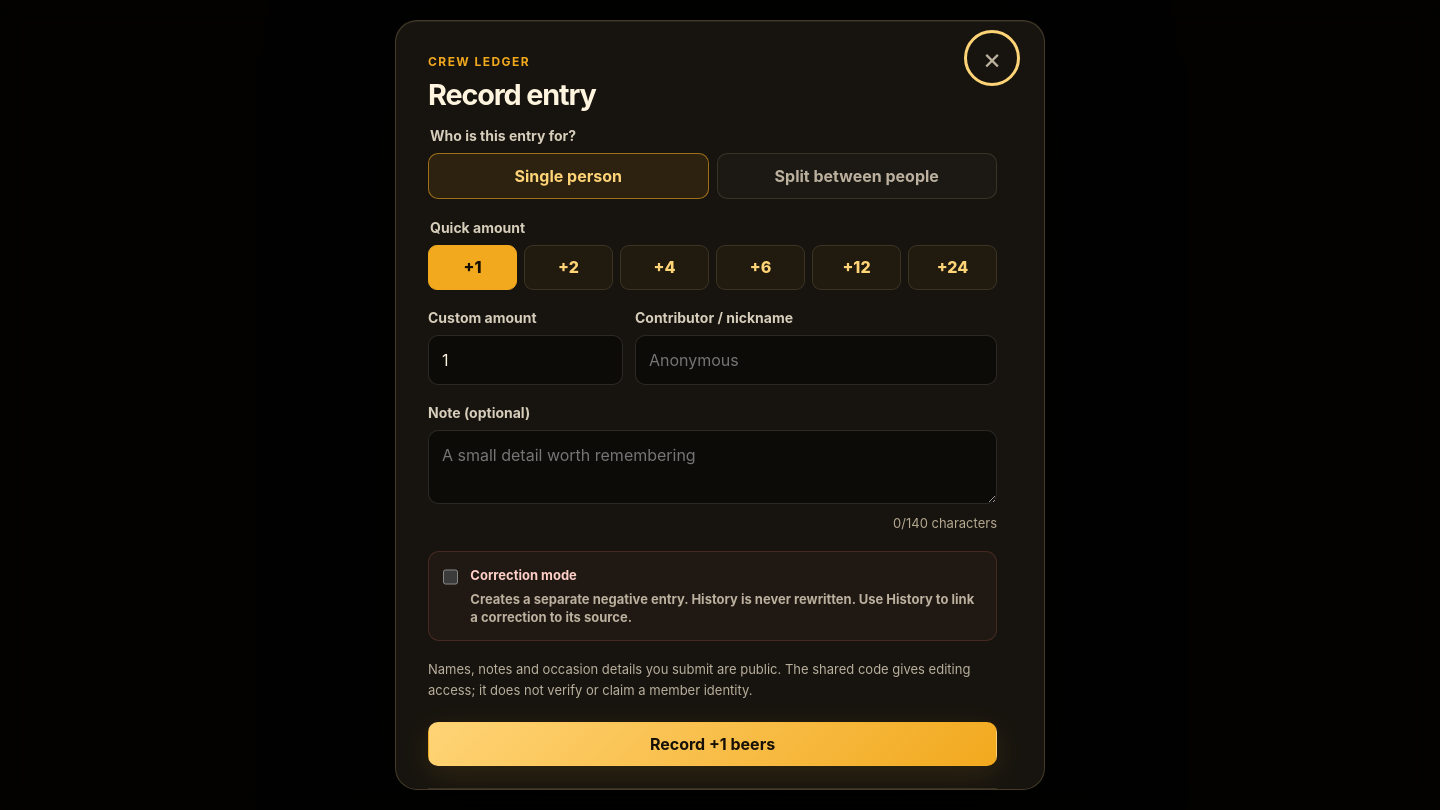
UpdateModal group mode › announces remaining allocation and disables review until the split is exact
Click the button "Split between people": (857, 176) [716,152,997,198]
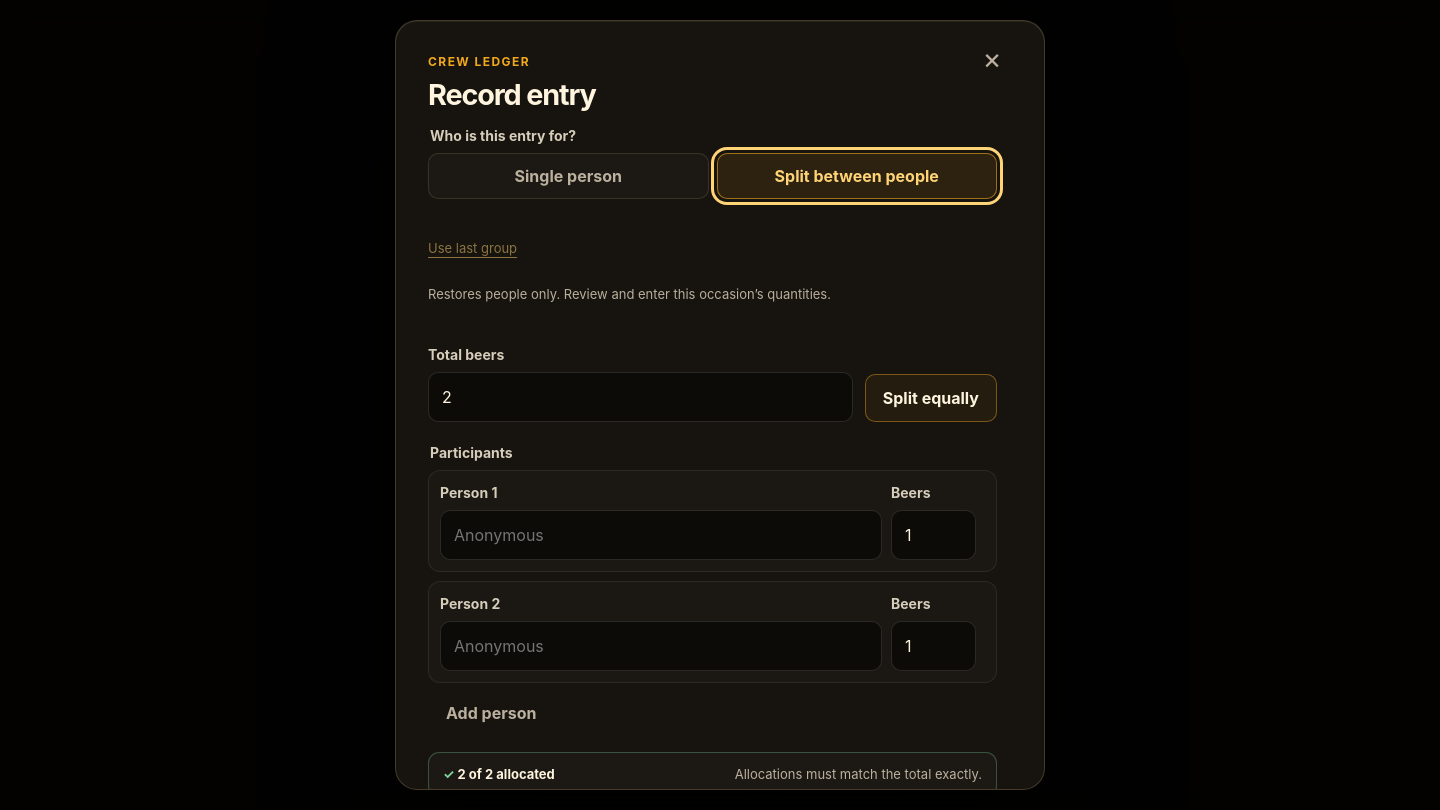
Replace the text in the number field labelled "Total beers" with "5": (640, 397) [428,372,853,422]
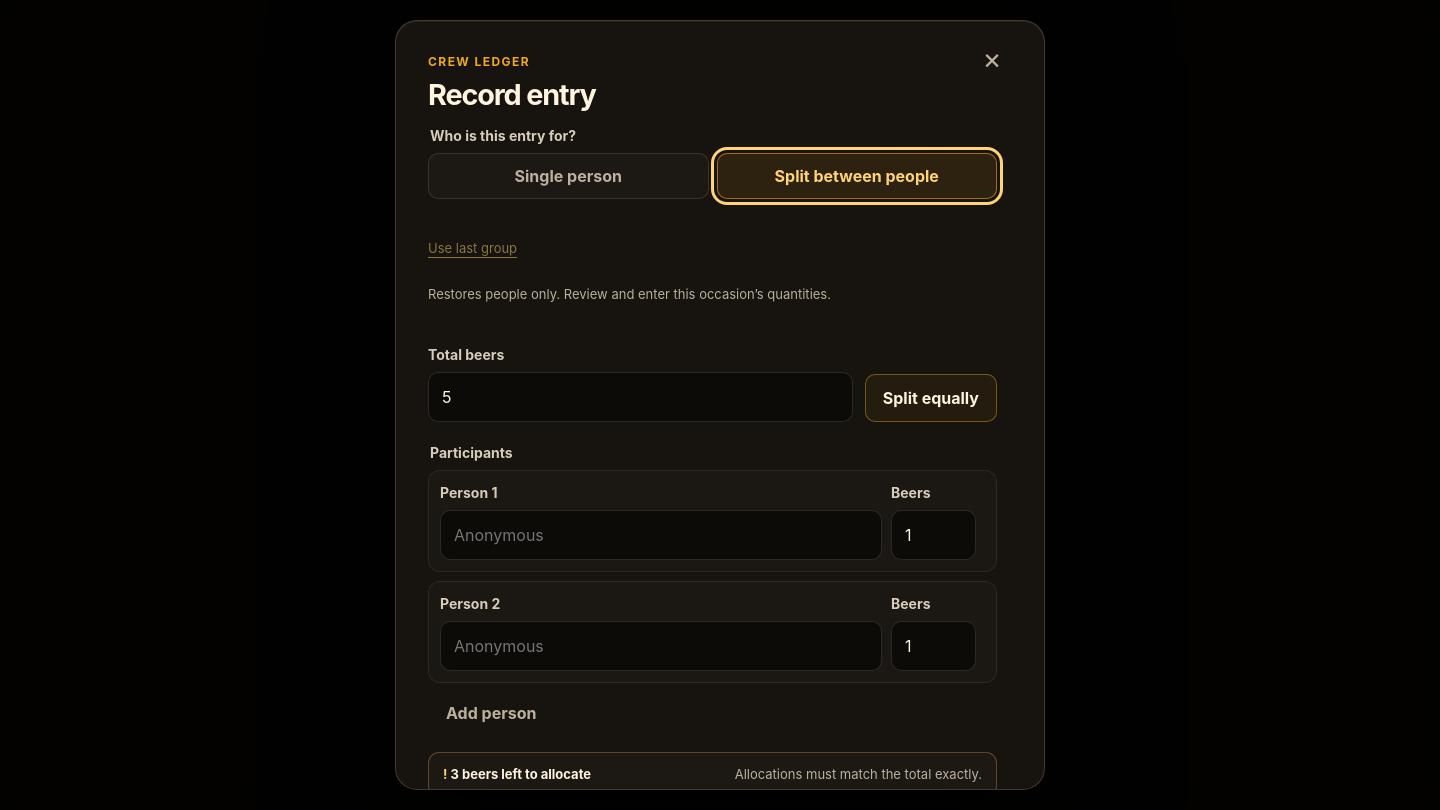
Expected: the text "3 beers left to allocate" is shown, [443,765,591,784]
In the field labelled "Person 1": (661, 535) [440,510,882,560], type "Arhaan"
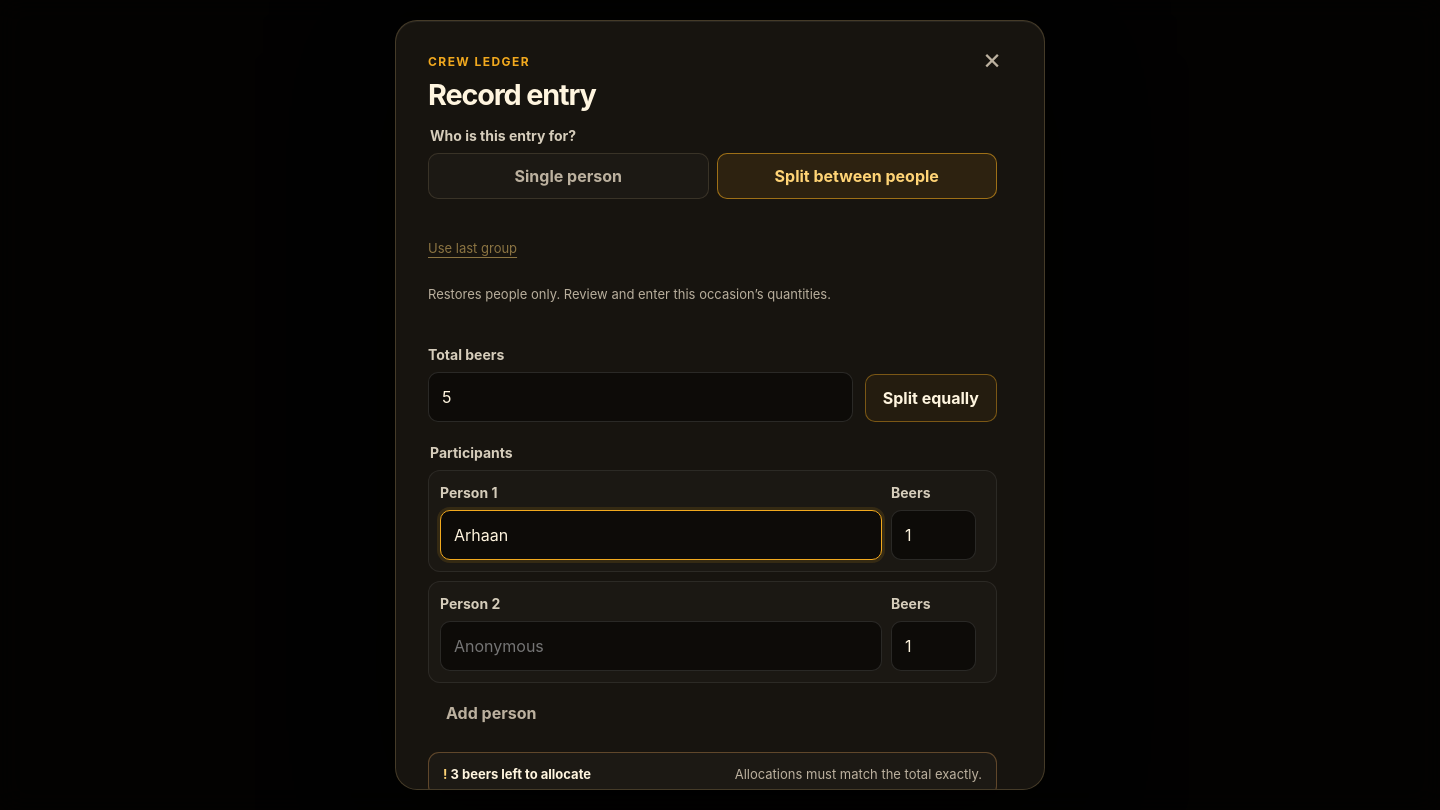
In the field labelled "Person 2": (661, 646) [440,621,882,671], type "Sam"
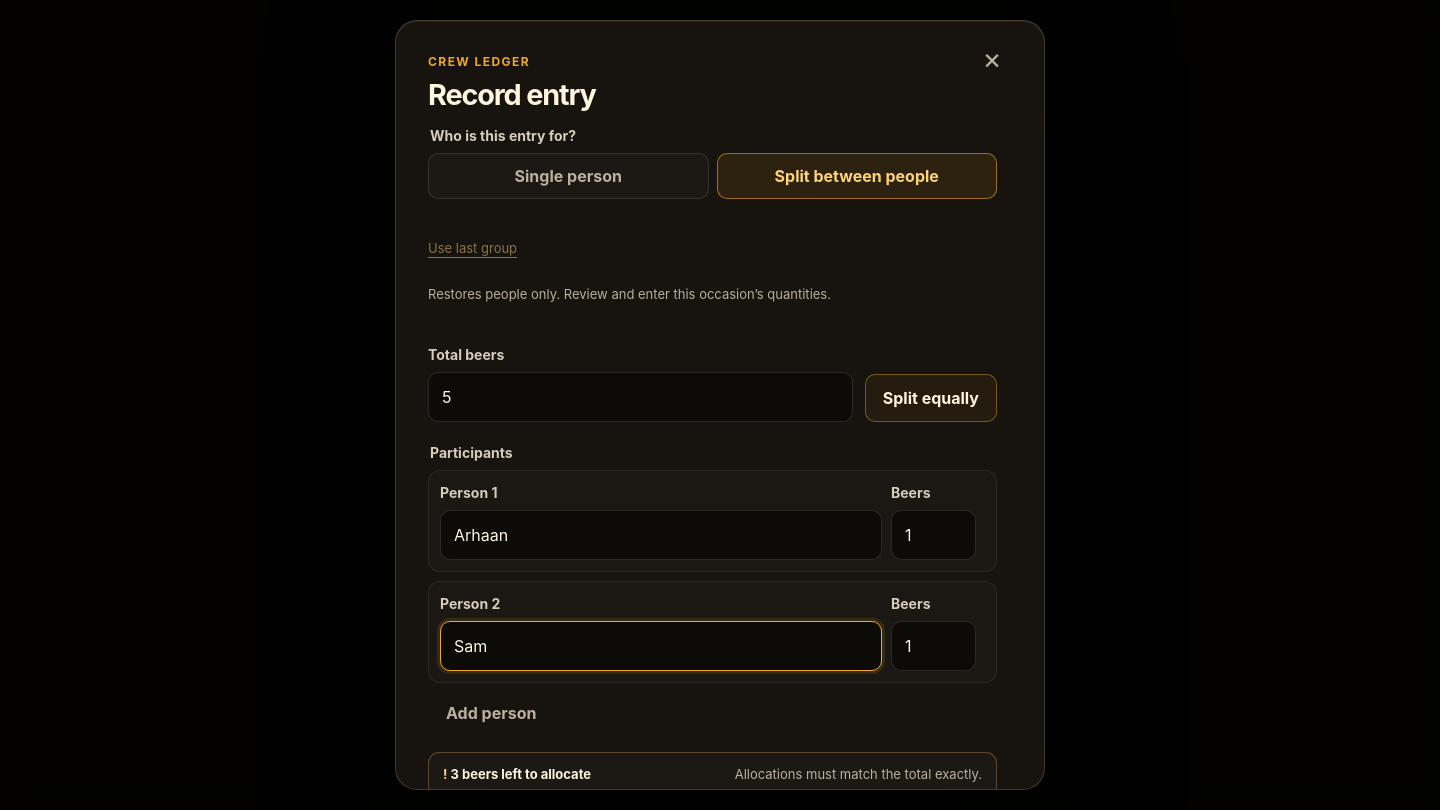
Replace the text in the number field named "Beer allocation for participant 1" with "3": (934, 535) [891,510,976,560]
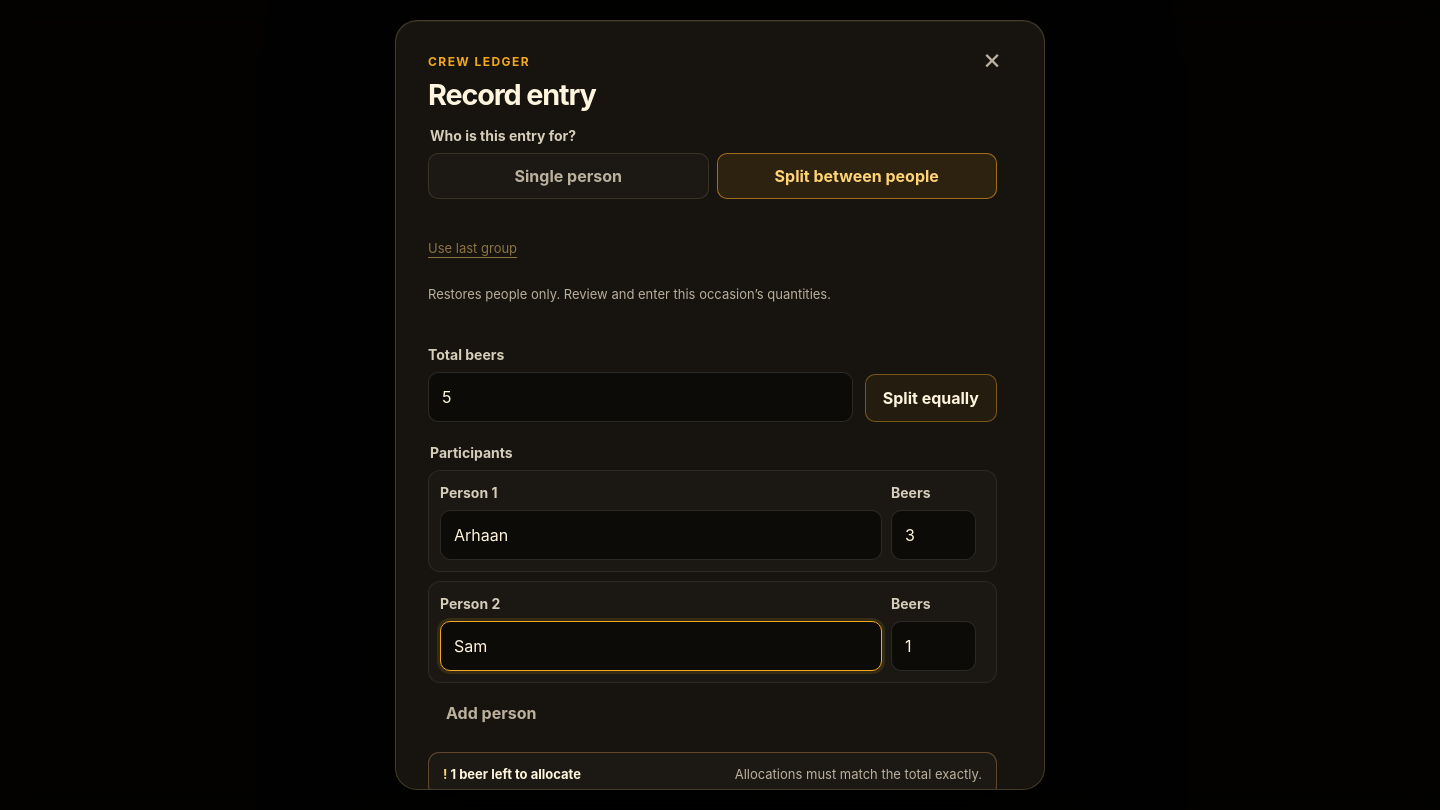
Expected: the text "1 beer left to allocate" is shown, [443,765,581,784]
Replace the text in the number field named "Beer allocation for participant 2" with "2": (934, 646) [891,621,976,671]
(page scrolled)
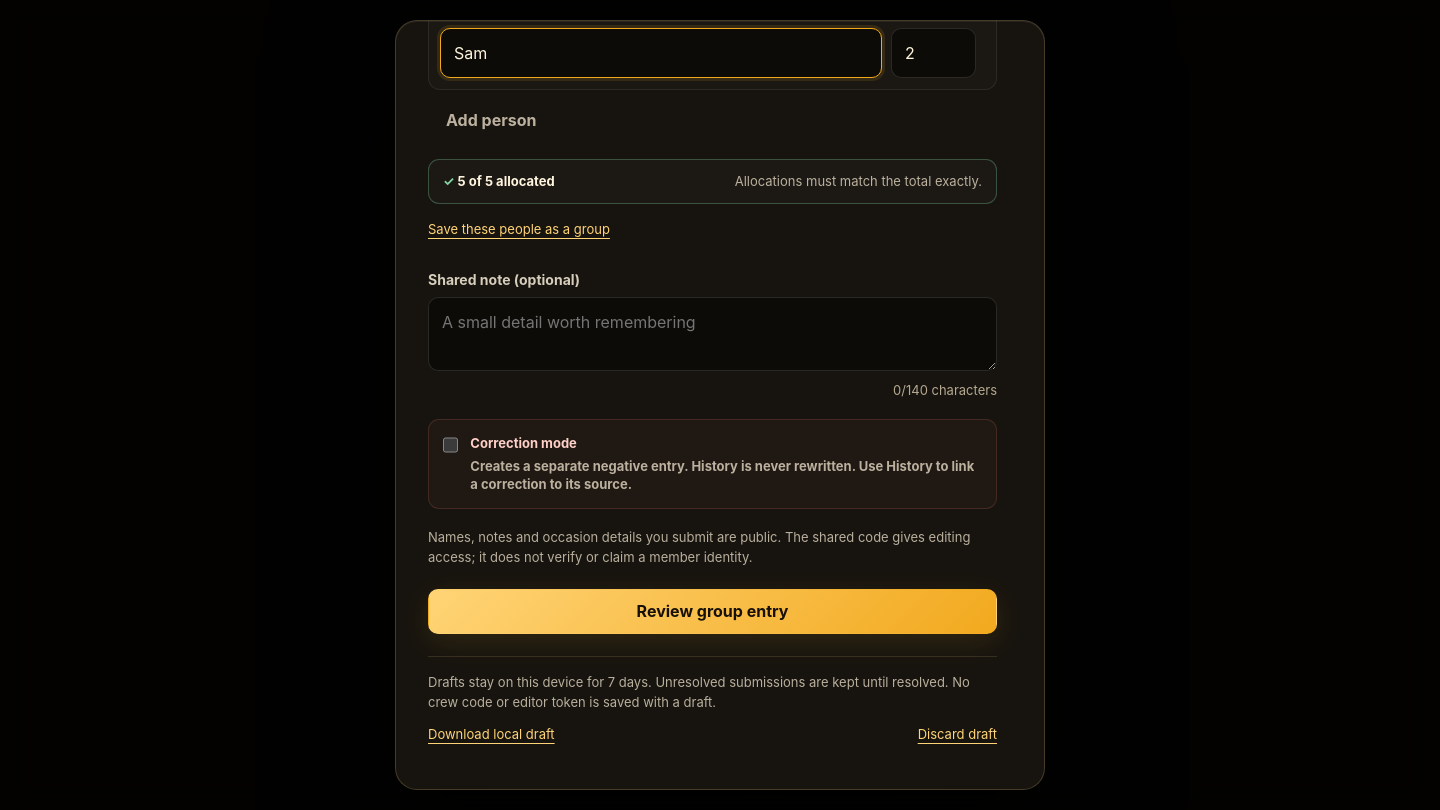
Expected: the button "Review group entry" is enabled, [428,589,997,634]
Expected: the text "5 of 5 allocated" is shown, [443,172,555,191]
